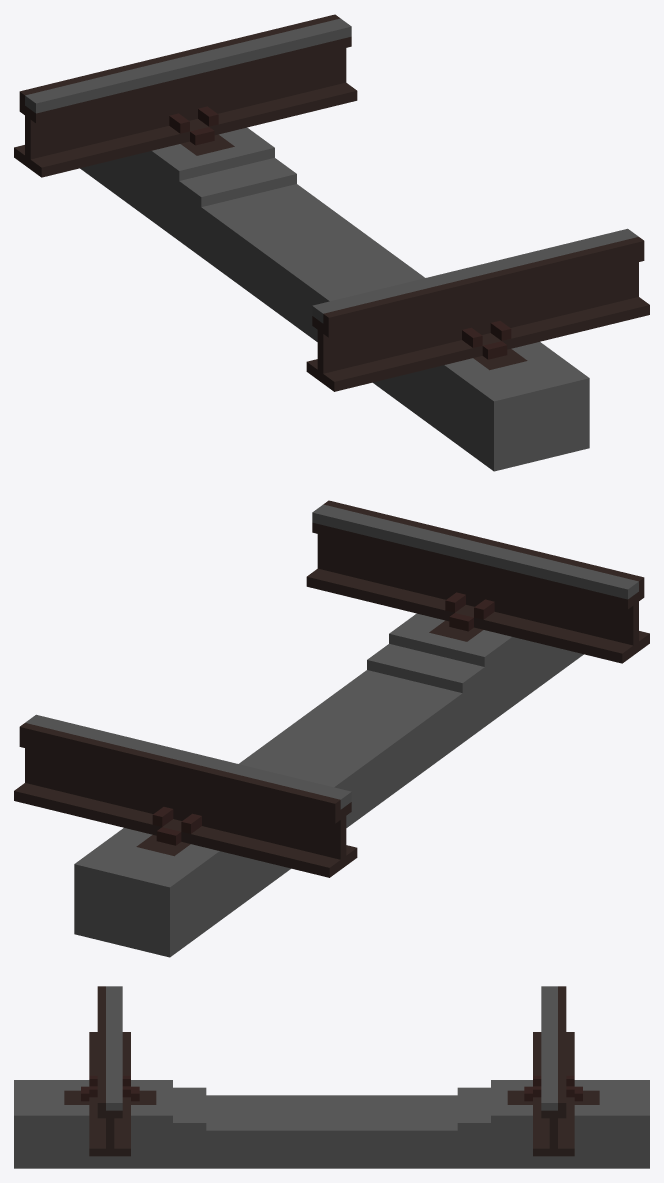
The model's file is schiene_beton.obj.
The picture shows the model from 3 angles, top to bottom: view 1: azimuth 30°, elevation 25°; view 2: azimuth 150°, elevation 25°; view 3: azimuth 270°, elevation 25°; orthographic projection. The views are drawn at different scales.
Visible parts, largest first — view 1: RAIL_BASE_1, RAIL_LEFT, RAIL_RIGHT, RAIL_BASE; view 2: RAIL_BASE_1, RAIL_LEFT, RAIL_RIGHT, RAIL_BASE; view 3: RAIL_BASE_1, RAIL_LEFT, RAIL_RIGHT, RAIL_BASE.
Part boxes in pixels (box(x1,y1,x2,y2)): RAIL_BASE_1: box(80, 127, 589, 471); RAIL_LEFT: box(306, 228, 649, 391); RAIL_RIGHT: box(14, 14, 357, 177); RAIL_BASE: box(169, 106, 511, 359); RAIL_BASE_1: box(74, 613, 583, 957); RAIL_LEFT: box(306, 500, 649, 663); RAIL_RIGHT: box(14, 714, 357, 877); RAIL_BASE: box(152, 592, 494, 845); RAIL_BASE_1: box(14, 1080, 649, 1168); RAIL_LEFT: box(89, 986, 130, 1156); RAIL_RIGHT: box(533, 986, 574, 1156); RAIL_BASE: box(81, 1075, 582, 1101).
Size of the model in its own units: 1.03 by 0.4375 by 2.38.
1 material, 1 textured.
